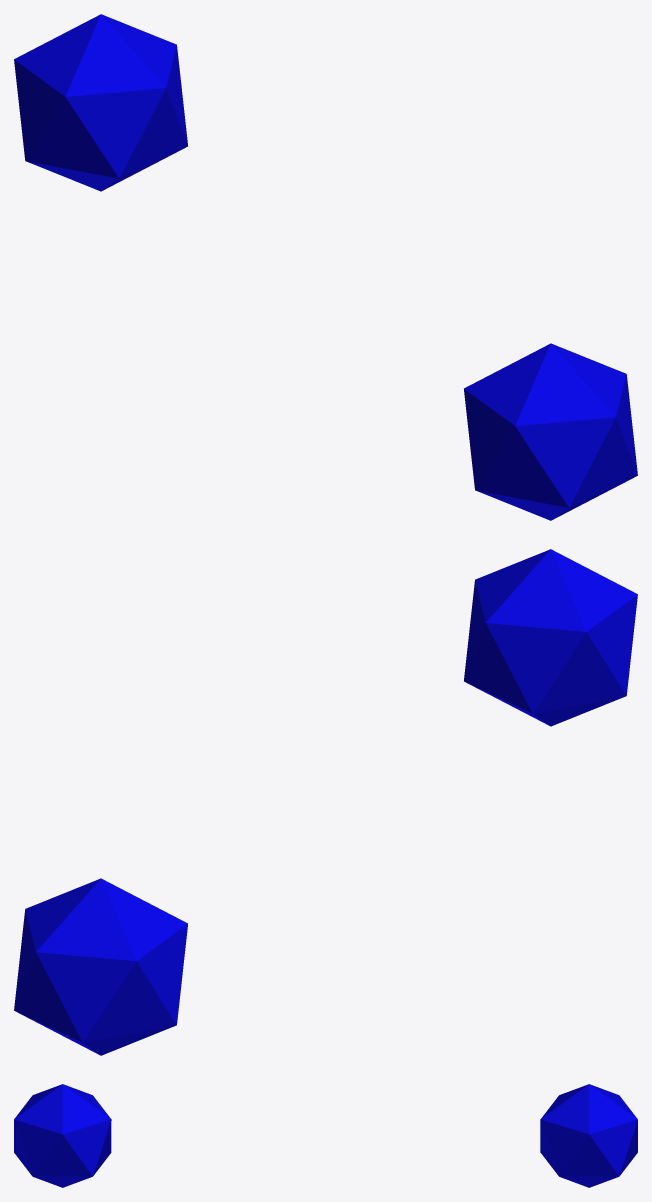
File: Icospheres.fbx
The picture shows the model from 3 angles, top to bottom: view 1: azimuth 30°, elevation 25°; view 2: azimuth 150°, elevation 25°; view 3: azimuth 270°, elevation 25°; orthographic projection. The views are drawn at different scales.
Visible parts, largest first — view 1: Icosphere; view 2: Icosphere; view 3: Icosphere.
Part boxes in pixels (x1,y1,x2,y2): Icosphere: [14, 14, 637, 520]; Icosphere: [14, 549, 637, 1055]; Icosphere: [14, 1084, 637, 1187].
Bounding box in the file's own units: 92.2 × 103 × 561.
